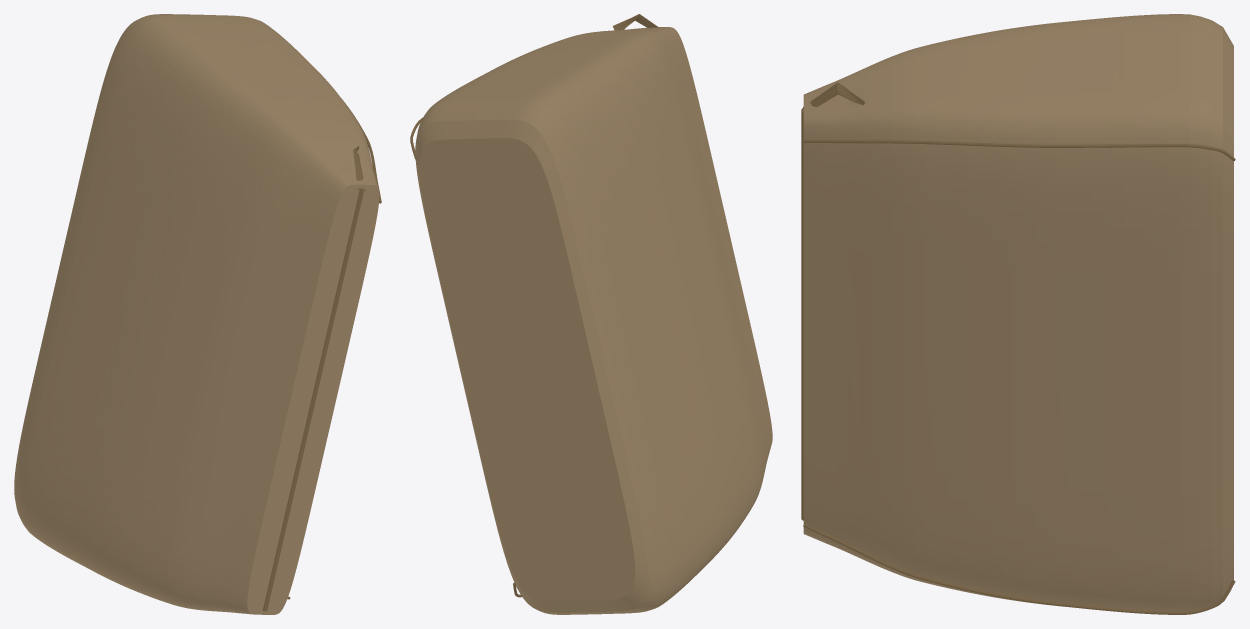
File: component_032_tabletop_beige_bag.glb
The picture shows the model from 3 angles, left to right: view 1: azimuth 30°, elevation 25°; view 2: azimuth 150°, elevation 25°; view 3: azimuth 270°, elevation 25°; orthographic projection. The views are drawn at different scales.
Parts seen in each view (by area): view 1: 032_tabletop_beige_bag_000_instance_000_photo_-01, 032_tabletop_beige_bag_001_instance_001_photo_-01; view 2: 032_tabletop_beige_bag_000_instance_000_photo_-01; view 3: 032_tabletop_beige_bag_000_instance_000_photo_-01, 032_tabletop_beige_bag_003_instance_003_photo_-01, 032_tabletop_beige_bag_002_instance_002_photo_-01, 032_tabletop_beige_bag_001_instance_001_photo_-01.
Part boxes in pixels (x1,y1,x2,y2): 032_tabletop_beige_bag_000_instance_000_photo_-01: (14, 14, 379, 614); 032_tabletop_beige_bag_001_instance_001_photo_-01: (262, 189, 364, 611); 032_tabletop_beige_bag_000_instance_000_photo_-01: (415, 27, 772, 614); 032_tabletop_beige_bag_000_instance_000_photo_-01: (803, 14, 1233, 611); 032_tabletop_beige_bag_003_instance_003_photo_-01: (803, 523, 1235, 614); 032_tabletop_beige_bag_002_instance_002_photo_-01: (803, 139, 1235, 161); 032_tabletop_beige_bag_001_instance_001_photo_-01: (801, 108, 803, 520).
Bounding box in the file's own units: 0.0457 × 0.0881 × 0.0574.
